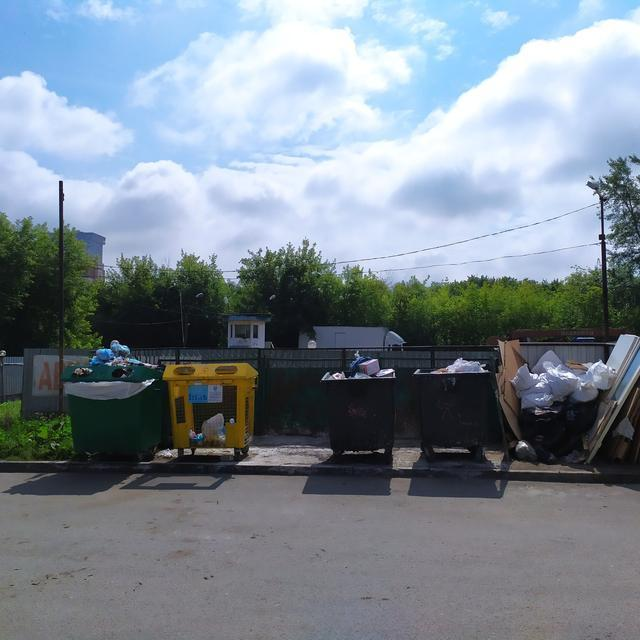Trash_Can_Empty: (162, 361, 260, 447)
Trash_Can_Full: (62, 341, 168, 455), (410, 355, 497, 448), (321, 355, 396, 451)
